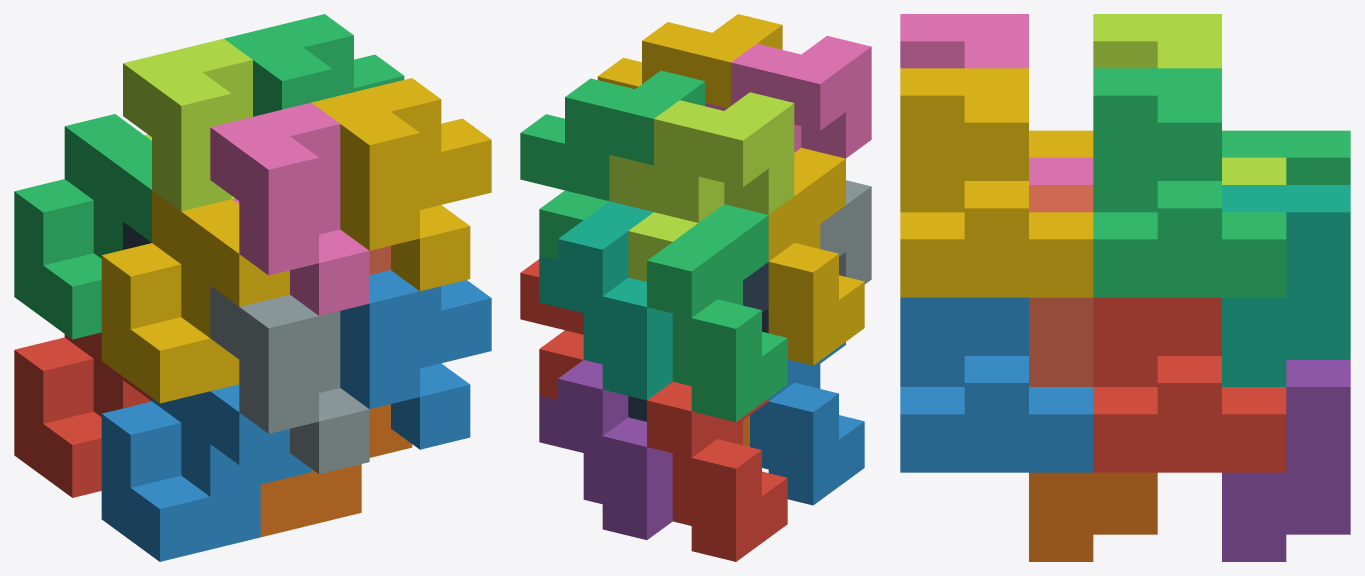
Rendered from tiling.obj.
The picture shows the model from 3 angles, left to right: view 1: azimuth 30°, elevation 25°; view 2: azimuth 150°, elevation 25°; view 3: azimuth 270°, elevation 25°; orthographic projection. The views are drawn at different scales.
Parts seen in each view (by area): view 1: copy_1_domain_2, copy_2_domain_8, copy_1_domain_4, copy_2_domain_4, copy_1_domain_3, copy_2_domain_6, copy_2_domain_2, copy_2_domain_3, copy_1_domain_1, copy_2_domain_7, copy_1_domain_6; view 2: copy_1_domain_3, copy_2_domain_3, copy_1_domain_7, copy_2_domain_7, copy_1_domain_1, copy_1_domain_4, copy_1_domain_5, copy_2_domain_4, copy_1_domain_2, copy_2_domain_8, copy_2_domain_5, copy_2_domain_2 (+1 smaller); view 3: copy_2_domain_7, copy_2_domain_8, copy_2_domain_5, copy_2_domain_6, copy_1_domain_7, copy_1_domain_5, copy_1_domain_6, copy_2_domain_3, copy_2_domain_4, copy_1_domain_8, copy_1_domain_3, copy_1_domain_4.
Part boxes in pixels (left/top/right/bottom): copy_1_domain_2: left=101, top=384, right=311, bottom=561; copy_2_domain_8: left=311, top=78, right=491, bottom=291; copy_1_domain_4: left=101, top=190, right=289, bottom=403; copy_2_domain_4: left=210, top=102, right=369, bottom=315; copy_1_domain_3: left=14, top=114, right=151, bottom=339; copy_2_domain_6: left=340, top=270, right=491, bottom=449; copy_2_domain_2: left=210, top=286, right=369, bottom=474; copy_2_domain_3: left=123, top=38, right=252, bottom=211; copy_1_domain_1: left=14, top=332, right=151, bottom=497; copy_2_domain_7: left=224, top=14, right=404, bottom=116; copy_1_domain_6: left=260, top=404, right=412, bottom=537; copy_1_domain_3: left=647, top=204, right=787, bottom=421; copy_2_domain_3: left=609, top=92, right=794, bottom=281; copy_1_domain_7: left=539, top=201, right=672, bottom=400; copy_2_domain_7: left=520, top=70, right=705, bottom=260; copy_1_domain_1: left=647, top=381, right=787, bottom=561; copy_1_domain_4: left=768, top=148, right=864, bottom=365; copy_1_domain_5: left=539, top=360, right=672, bottom=539; copy_2_domain_4: left=705, top=36, right=871, bottom=158; copy_1_domain_2: left=750, top=342, right=864, bottom=505; copy_2_domain_8: left=597, top=14, right=782, bottom=108; copy_2_domain_5: left=520, top=259, right=583, bottom=399; copy_2_domain_2: left=820, top=180, right=871, bottom=284; copy_2_domain_7: left=1093, top=68, right=1286, bottom=297; copy_2_domain_8: left=900, top=68, right=1093, bottom=297; copy_2_domain_5: left=1093, top=297, right=1286, bottom=472; copy_2_domain_6: left=900, top=297, right=1093, bottom=472; copy_1_domain_7: left=1222, top=185, right=1350, bottom=386; copy_1_domain_5: left=1222, top=360, right=1350, bottom=561; copy_1_domain_6: left=1029, top=472, right=1157, bottom=561; copy_2_domain_3: left=1093, top=14, right=1286, bottom=184; copy_2_domain_4: left=900, top=14, right=1093, bottom=184; copy_1_domain_8: left=1029, top=185, right=1093, bottom=386; copy_1_domain_3: left=1222, top=130, right=1350, bottom=184; copy_1_domain_4: left=1029, top=130, right=1093, bottom=157.
Size of the model in its own units: 6 by 8 by 7.
